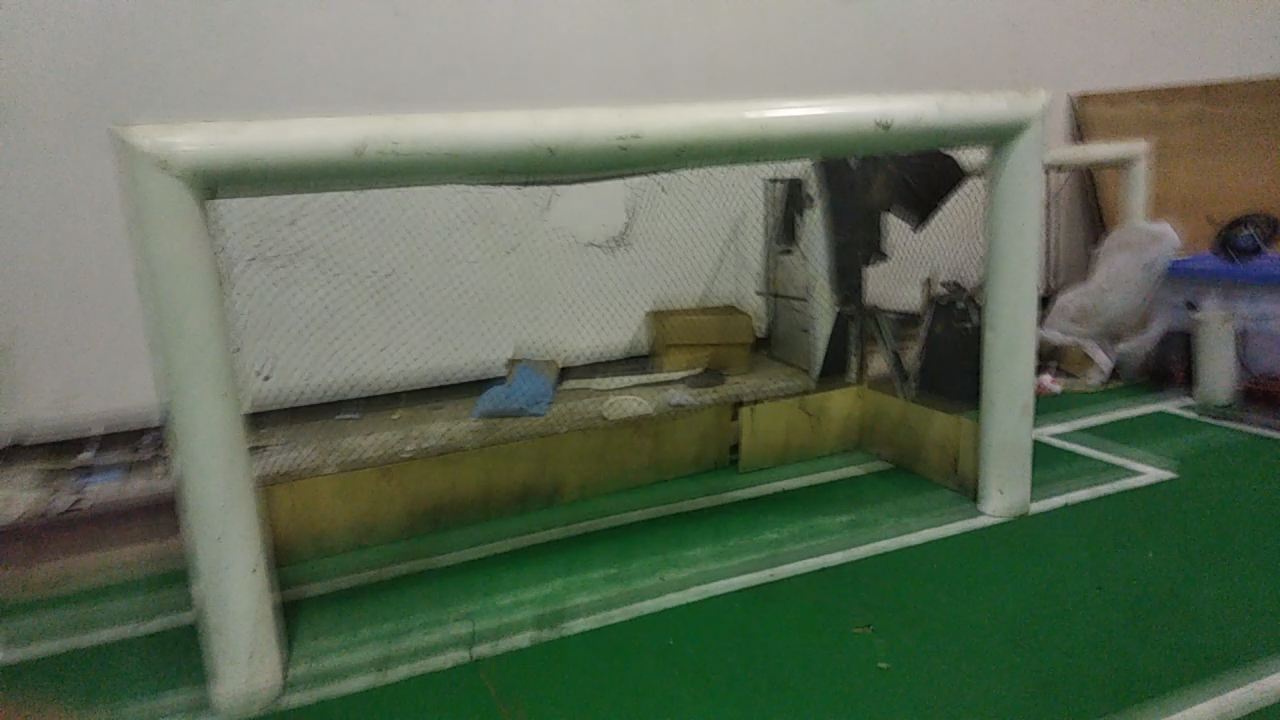gawang: (97, 76, 1067, 719)
